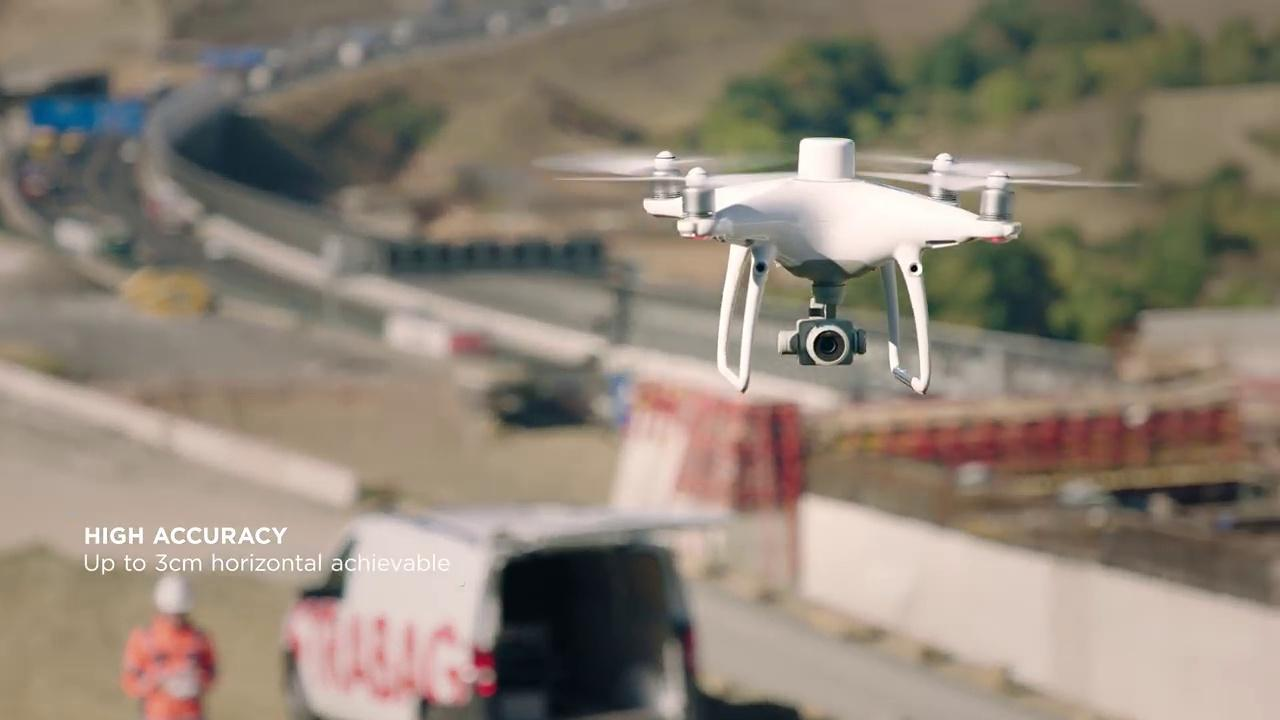drone: (527, 131, 1150, 399)
